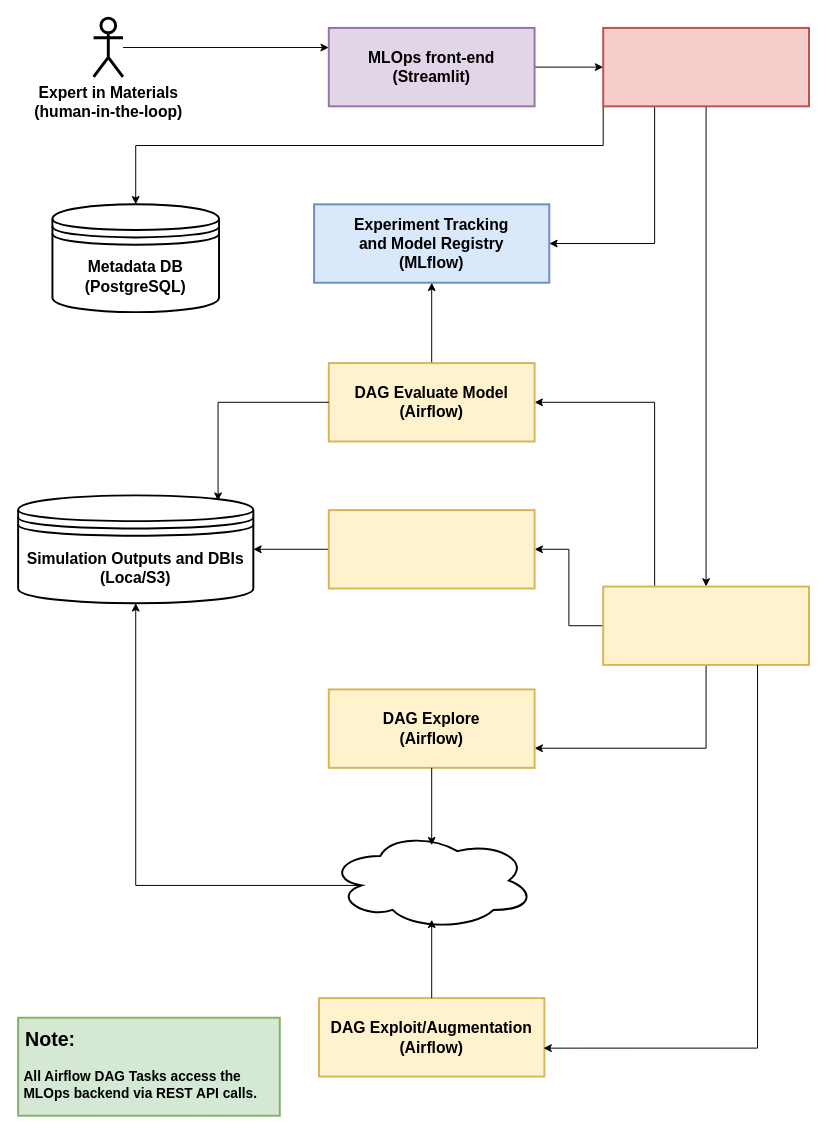
Some shapes in this 826 by 1136 pixel diagram are drawn without their labels. The centre of each missing label's shape, as x and y in pixels:
DAG ETL Model (Airflow): the point at 431,549
HPC resource: the point at 431,880
MLOps back-end (FastAPI): the point at 705,66
Orchestration (Airflow): the point at 705,625
